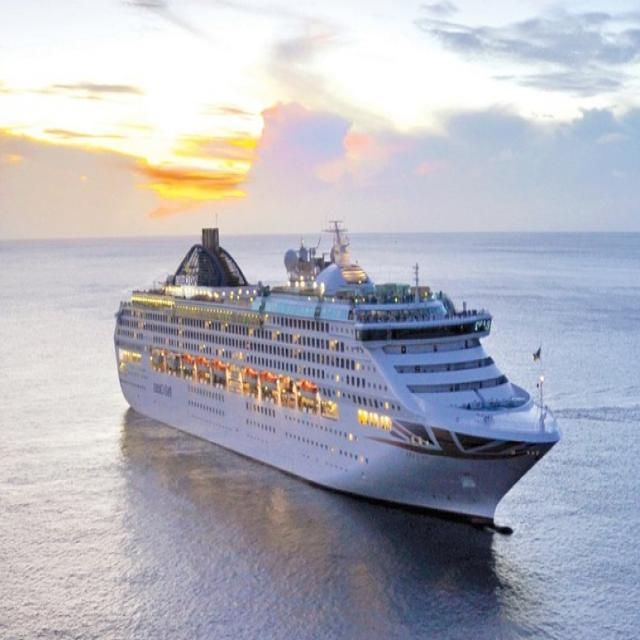passenger ship: (111, 207, 573, 529)
